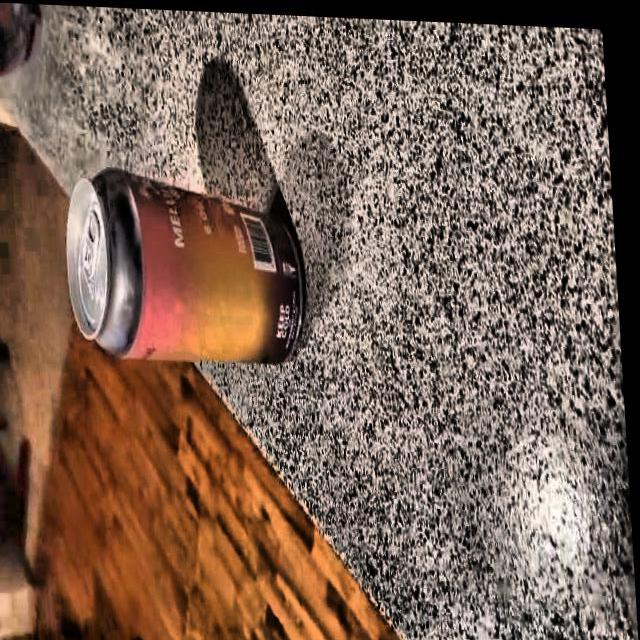Aluminum Can: (55, 156, 330, 372)
